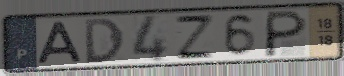4: (130, 14, 171, 64)
6: (222, 13, 258, 58)
A: (35, 20, 85, 66)
D: (82, 16, 127, 65)
P: (262, 8, 310, 59)
Z: (173, 14, 217, 61)
